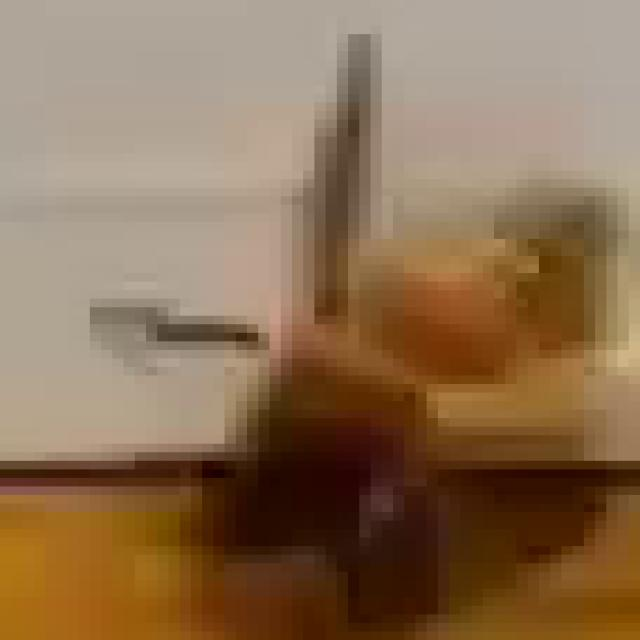honeybee: (170, 110, 618, 640)
